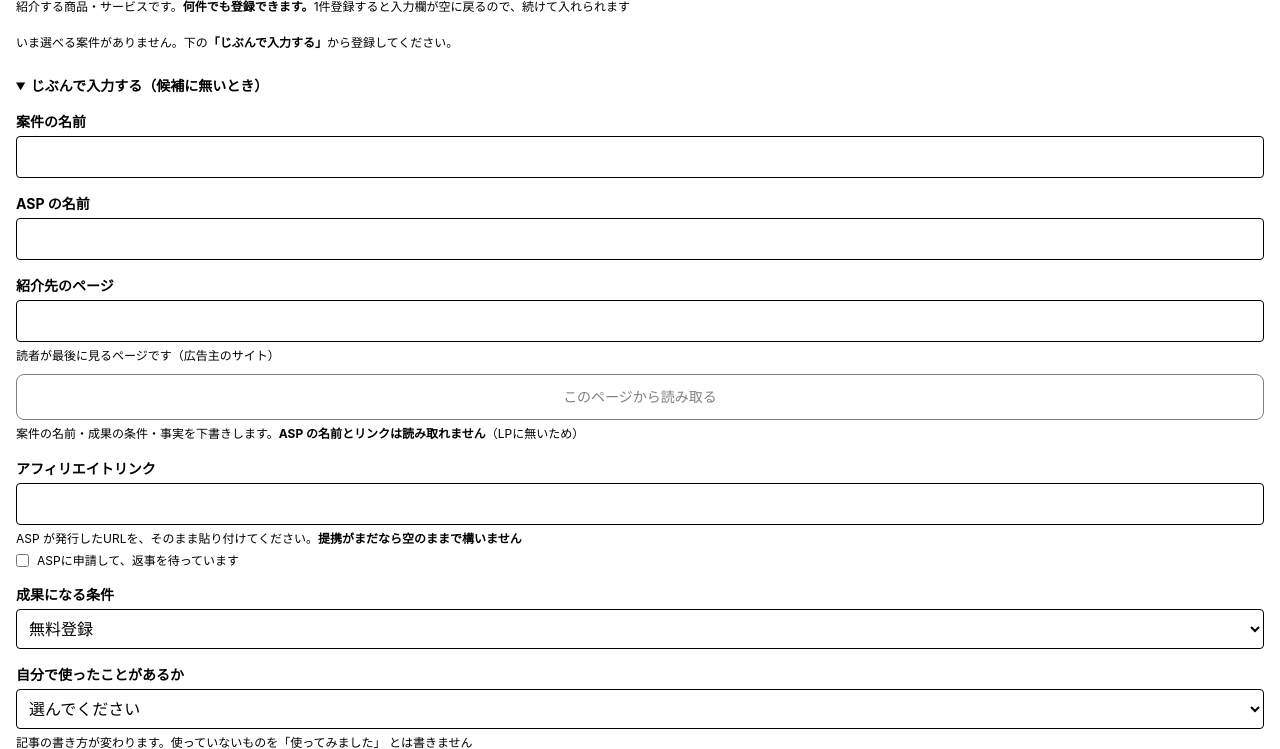
Scenario: ページから読み取る › 読み取ったら、確かめるよう伝える
Type "https://lp.example.com" into the field labelled "紹介先のページ" at (640, 321), box [16, 300, 1264, 342]
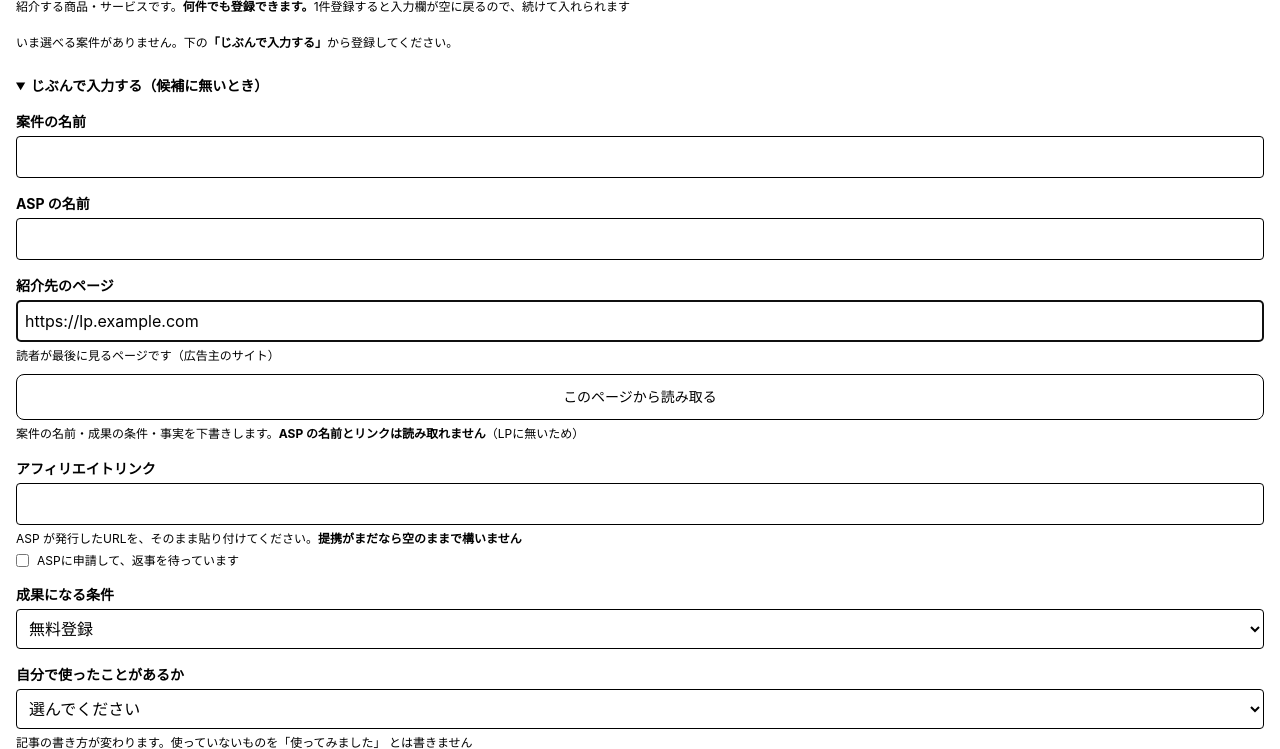
Click the button "このページから読み取る" at (640, 396), box [16, 374, 1264, 420]
(page scrolled)
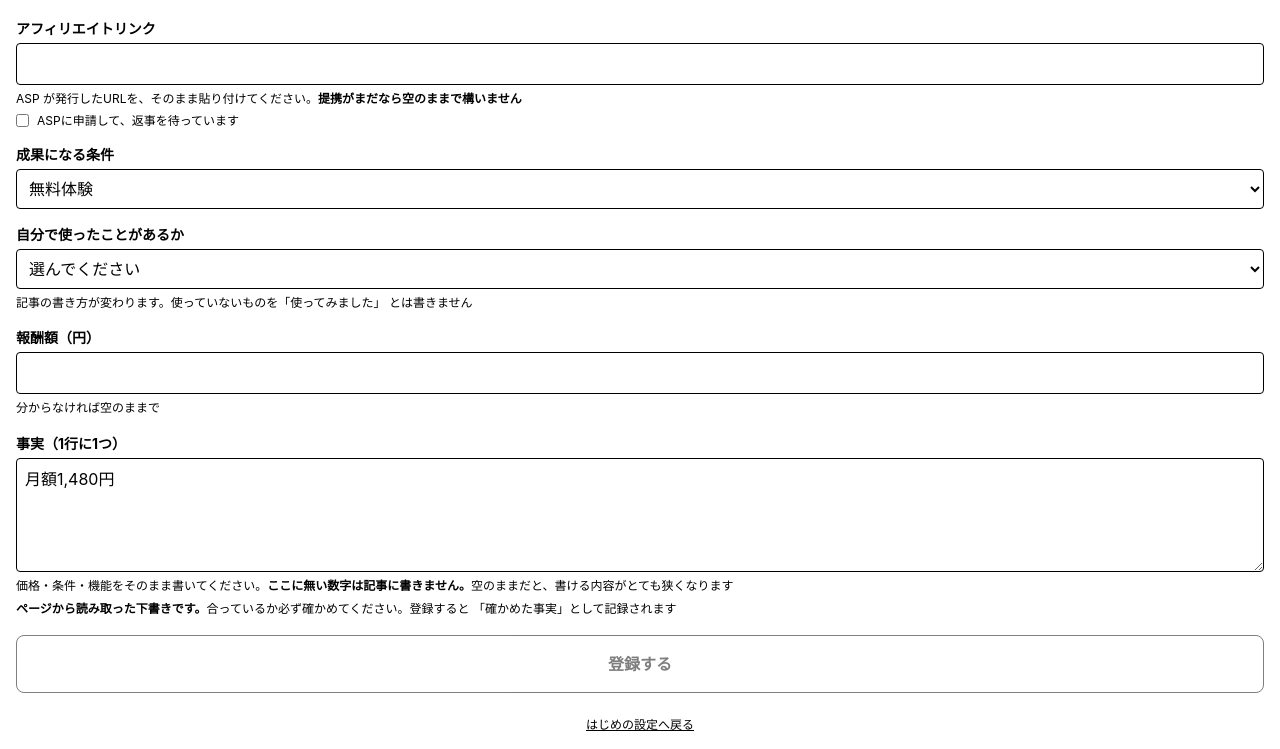
Result: the text "ページから読み取った下書きです。合っているか必ず確かめてください。登録すると 「確かめた事実」として記録されます" is shown at [16, 601, 677, 616]
